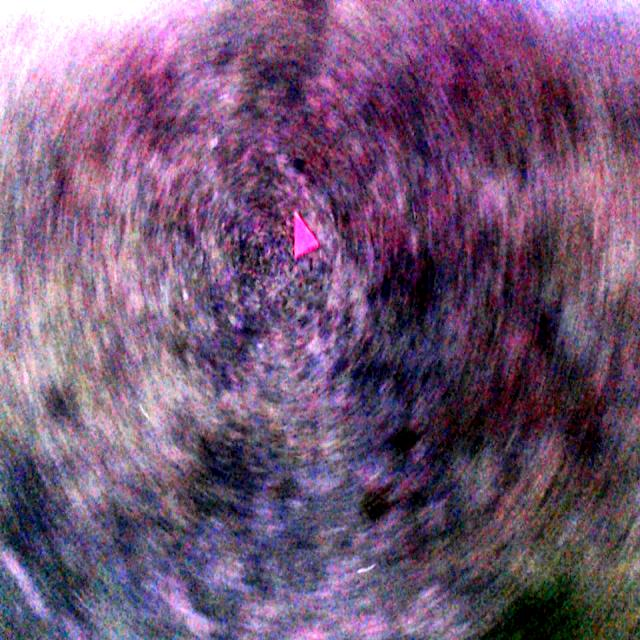red_triangle: (293, 210, 320, 260)
